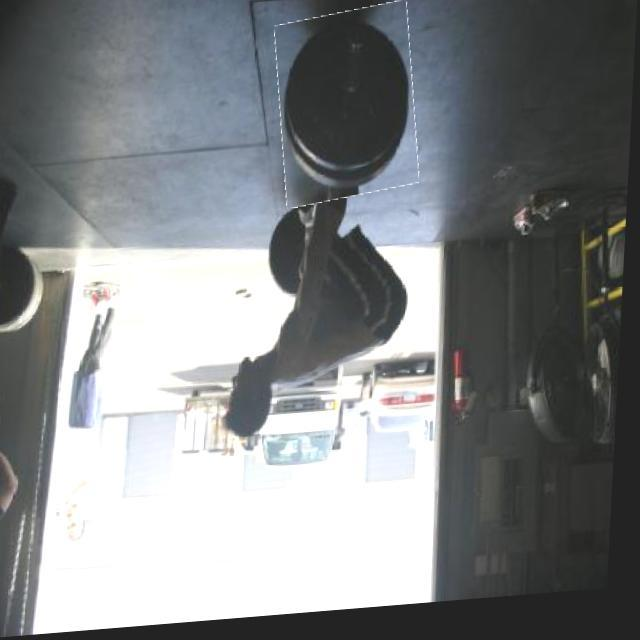barbell: (273, 10, 424, 212)
